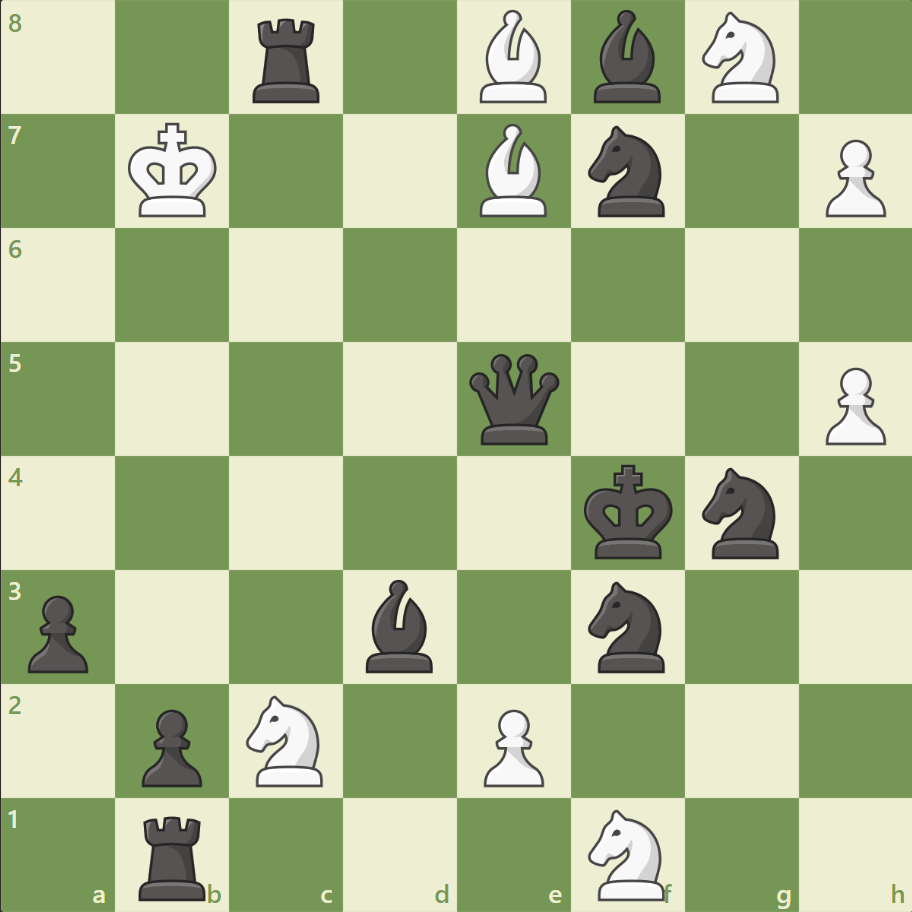B: (471, 6, 555, 109), (471, 120, 555, 222)
K: (124, 117, 224, 225)
N: (692, 7, 789, 110), (238, 688, 335, 791), (579, 802, 676, 904)
P: (474, 700, 549, 791), (815, 132, 889, 223), (815, 359, 889, 450)
b: (585, 6, 669, 109), (358, 574, 442, 676)
k: (579, 458, 679, 566)
n: (692, 461, 789, 564), (579, 121, 676, 223), (579, 575, 676, 677)
p: (20, 586, 95, 677), (133, 700, 208, 791)
q: (464, 349, 563, 449)
r: (246, 12, 329, 109), (133, 806, 215, 904)
